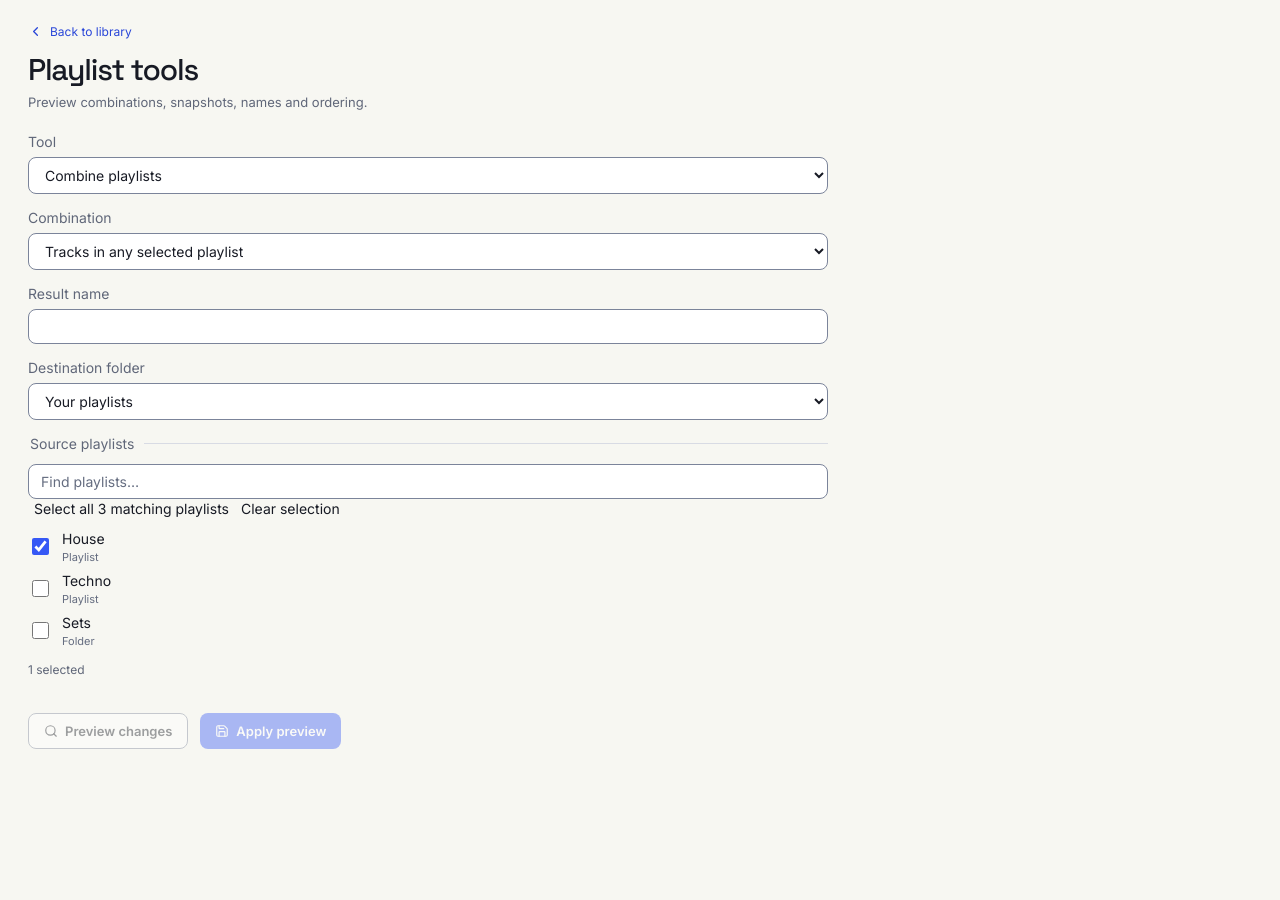
Test case: playlist tools › exposes numbering settings and clears a stale preview on native rejection
Select "Number playlists" in the dropdown named "Playlist tool": (428, 175) x1=28 y1=156 x2=828 y2=194
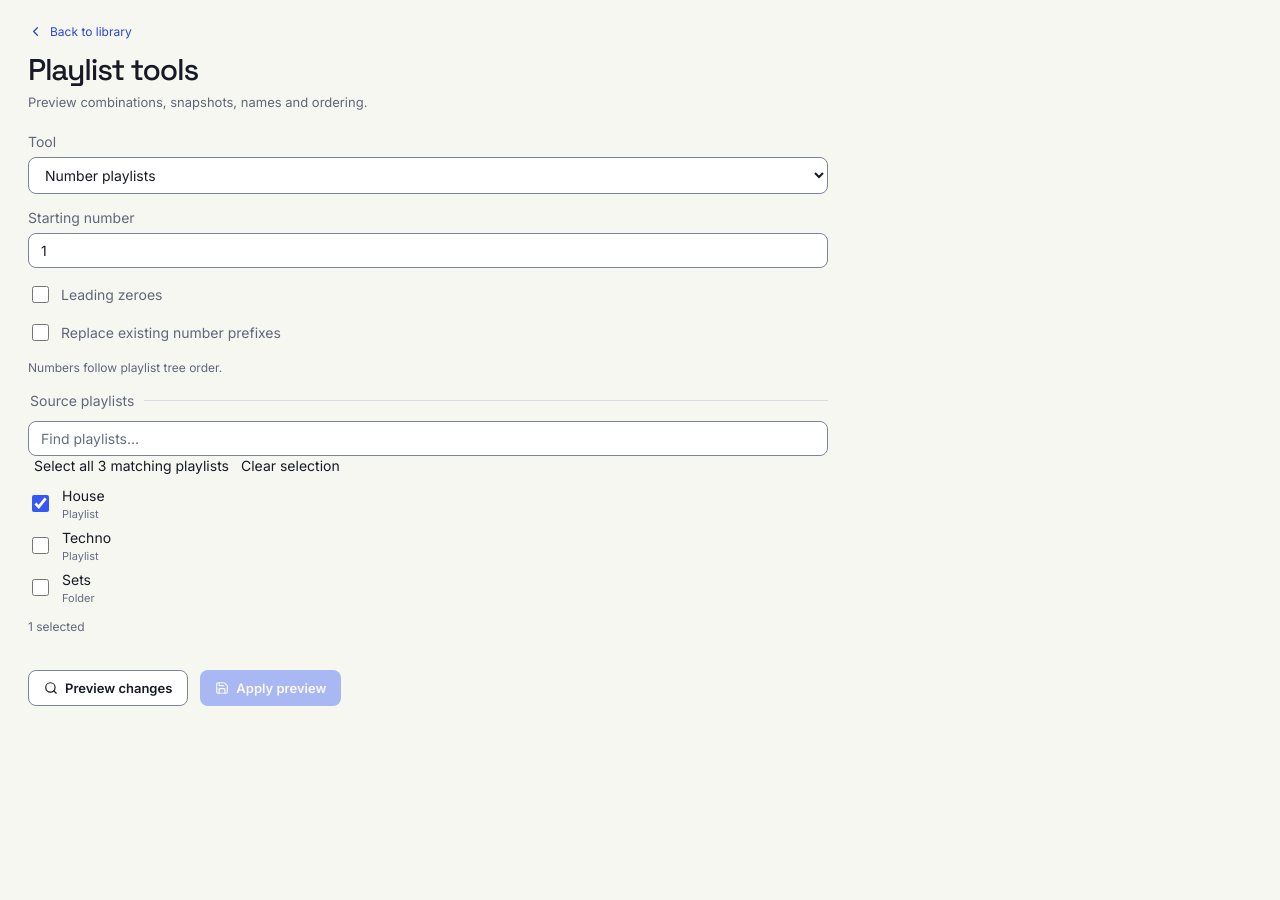
Replace the text in the field labelled "Starting number" with "10": (428, 250) x1=28 y1=232 x2=828 y2=268
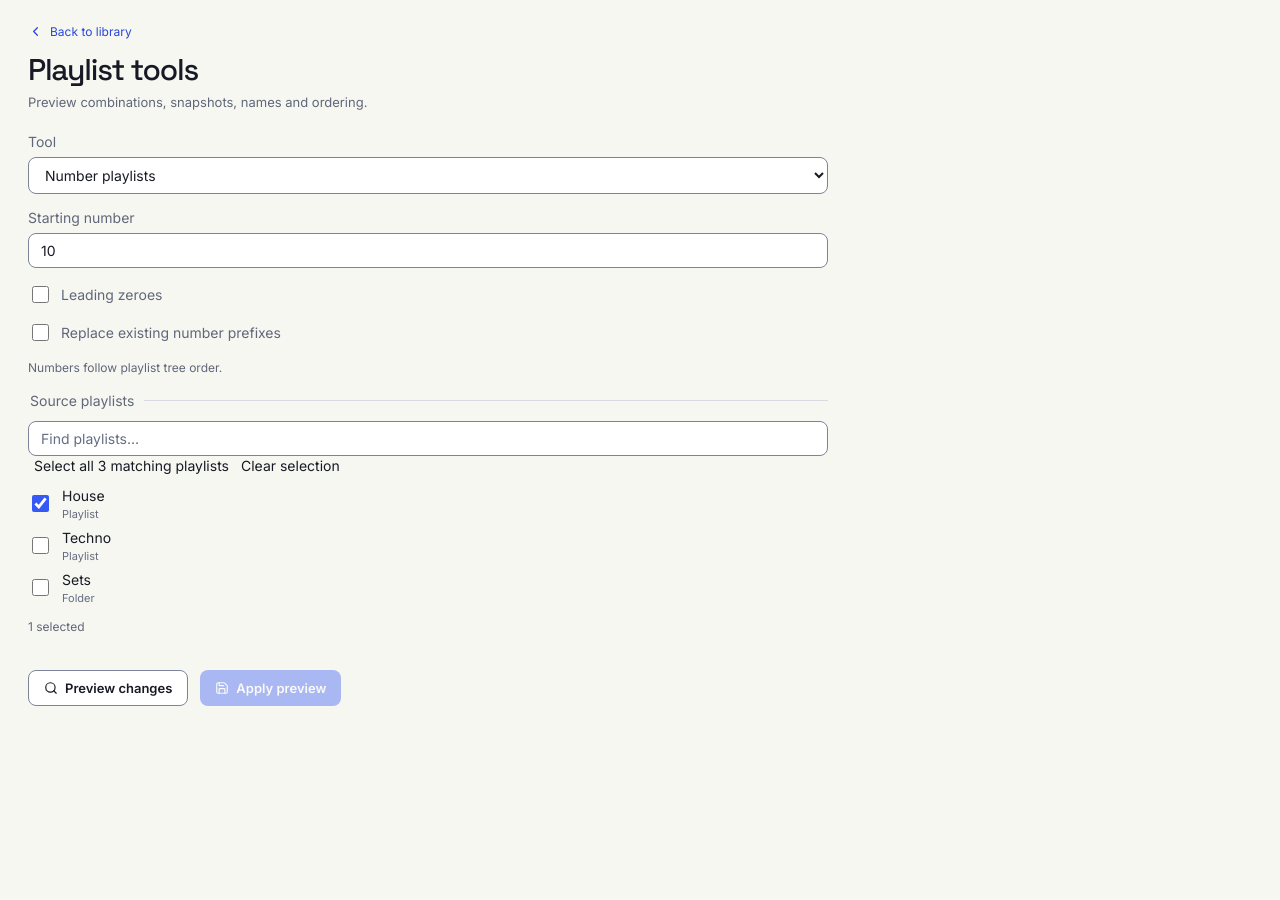
Click the checkbox labelled "Leading zeroes": (40, 294) x1=32 y1=286 x2=49 y2=302
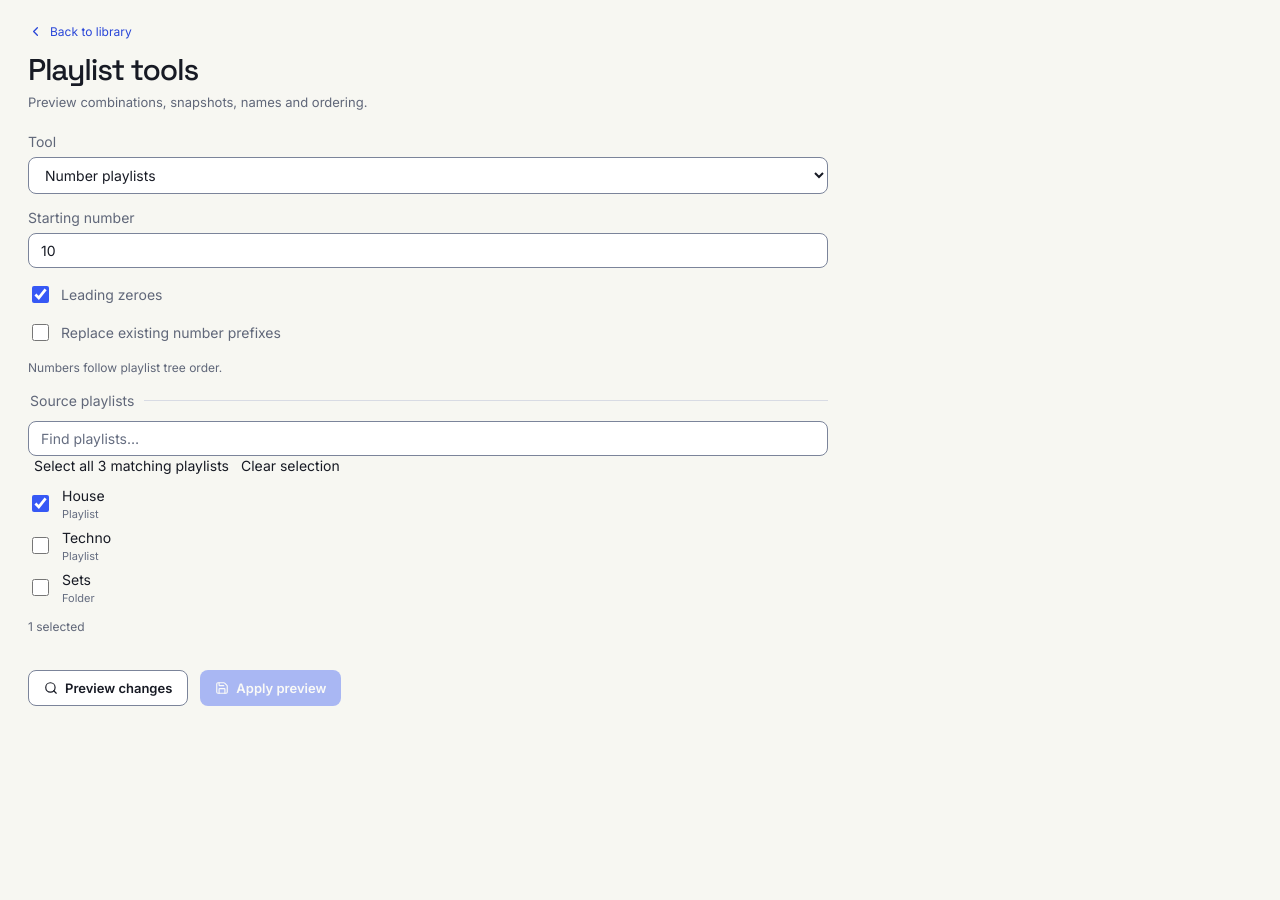
Click the checkbox labelled "Replace existing number prefixes": (40, 332) x1=32 y1=324 x2=49 y2=340
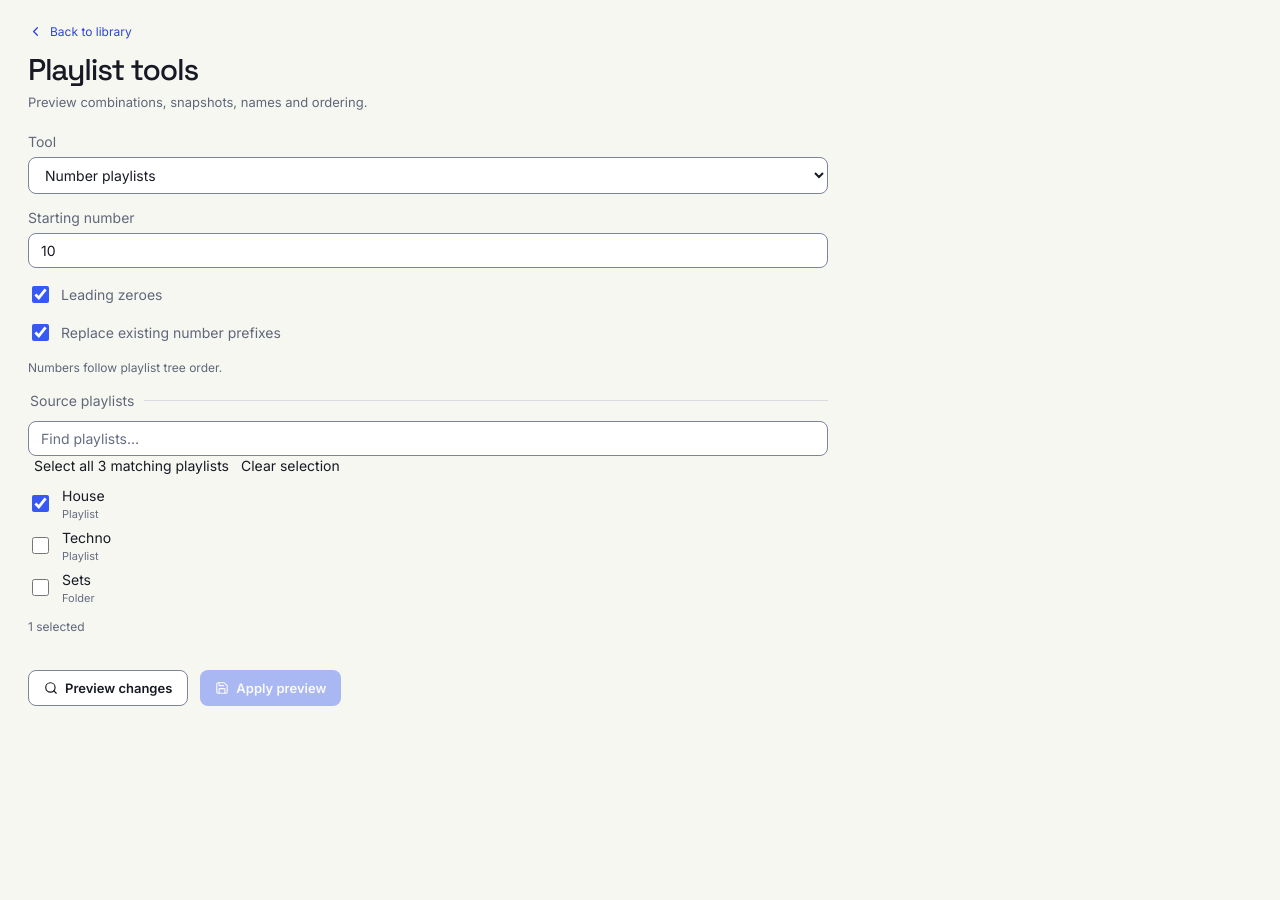
Click the button "Preview changes": (108, 688) x1=28 y1=670 x2=188 y2=706
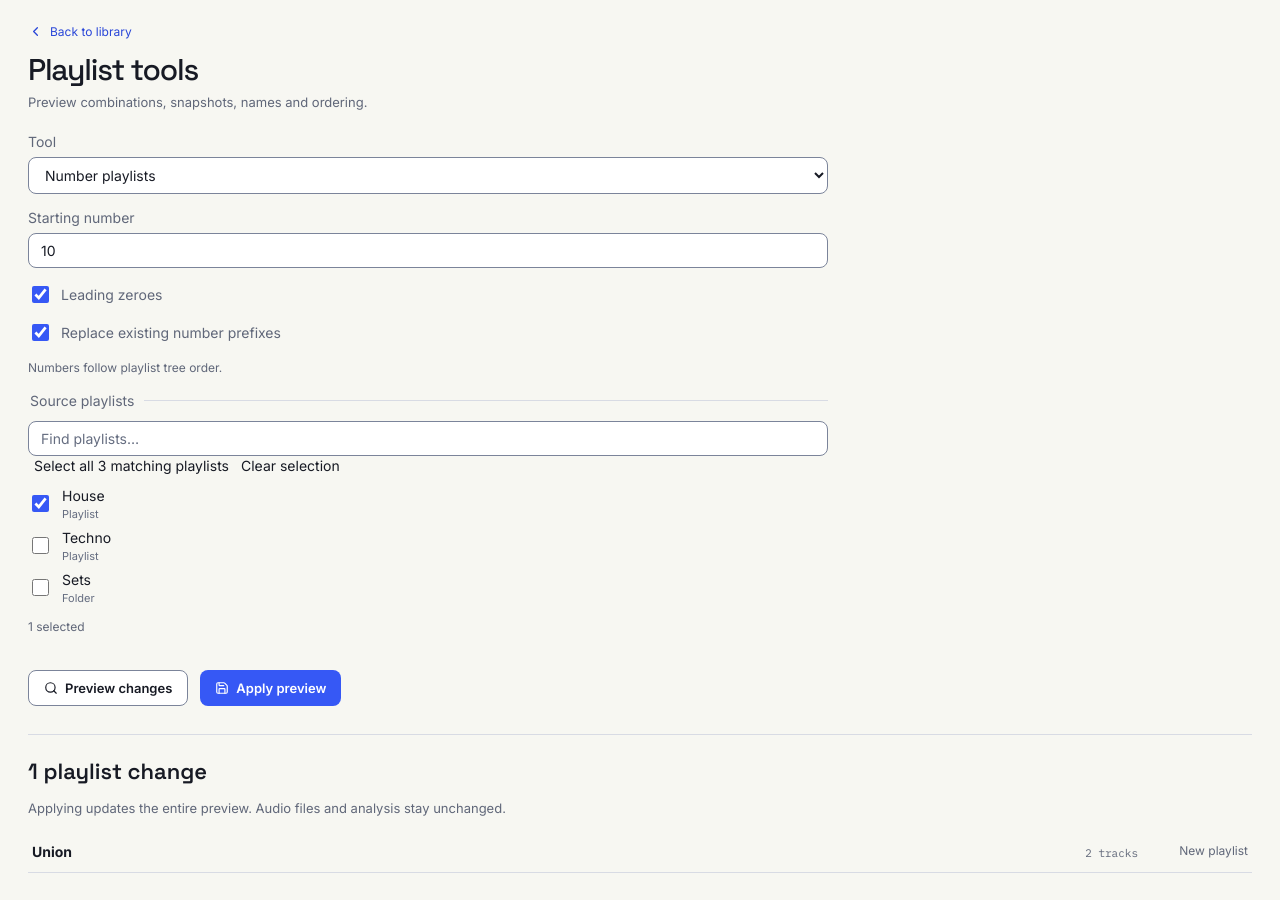
Now the text "Union" is shown, box x1=32 y1=843 x2=72 y2=860
Click the button "Apply preview": (271, 688) x1=200 y1=670 x2=341 y2=706
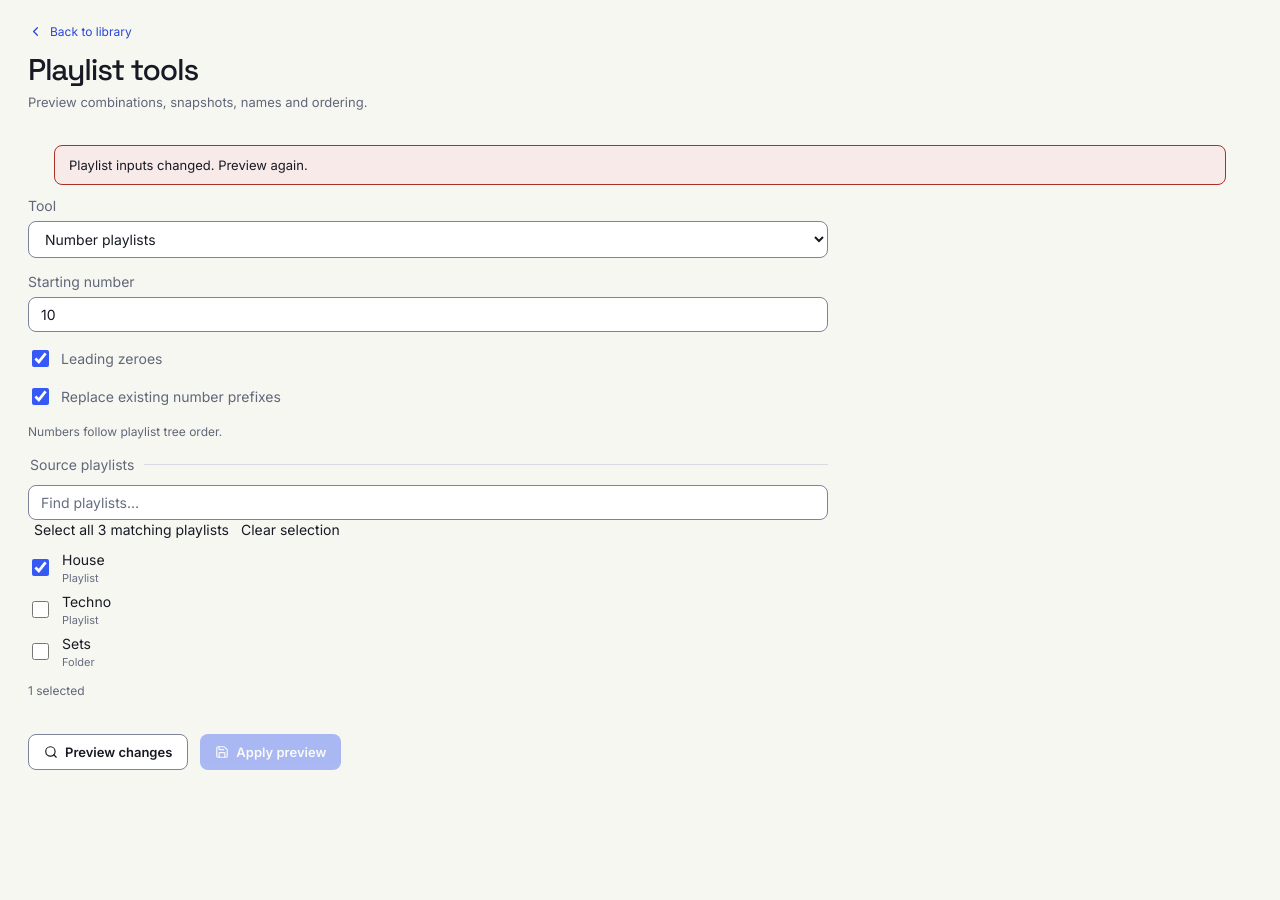
Now the text "Playlist inputs changed. Preview again." is shown, box x1=54 y1=144 x2=1226 y2=184
Now the button "Apply preview" is disabled, box x1=200 y1=734 x2=341 y2=770
